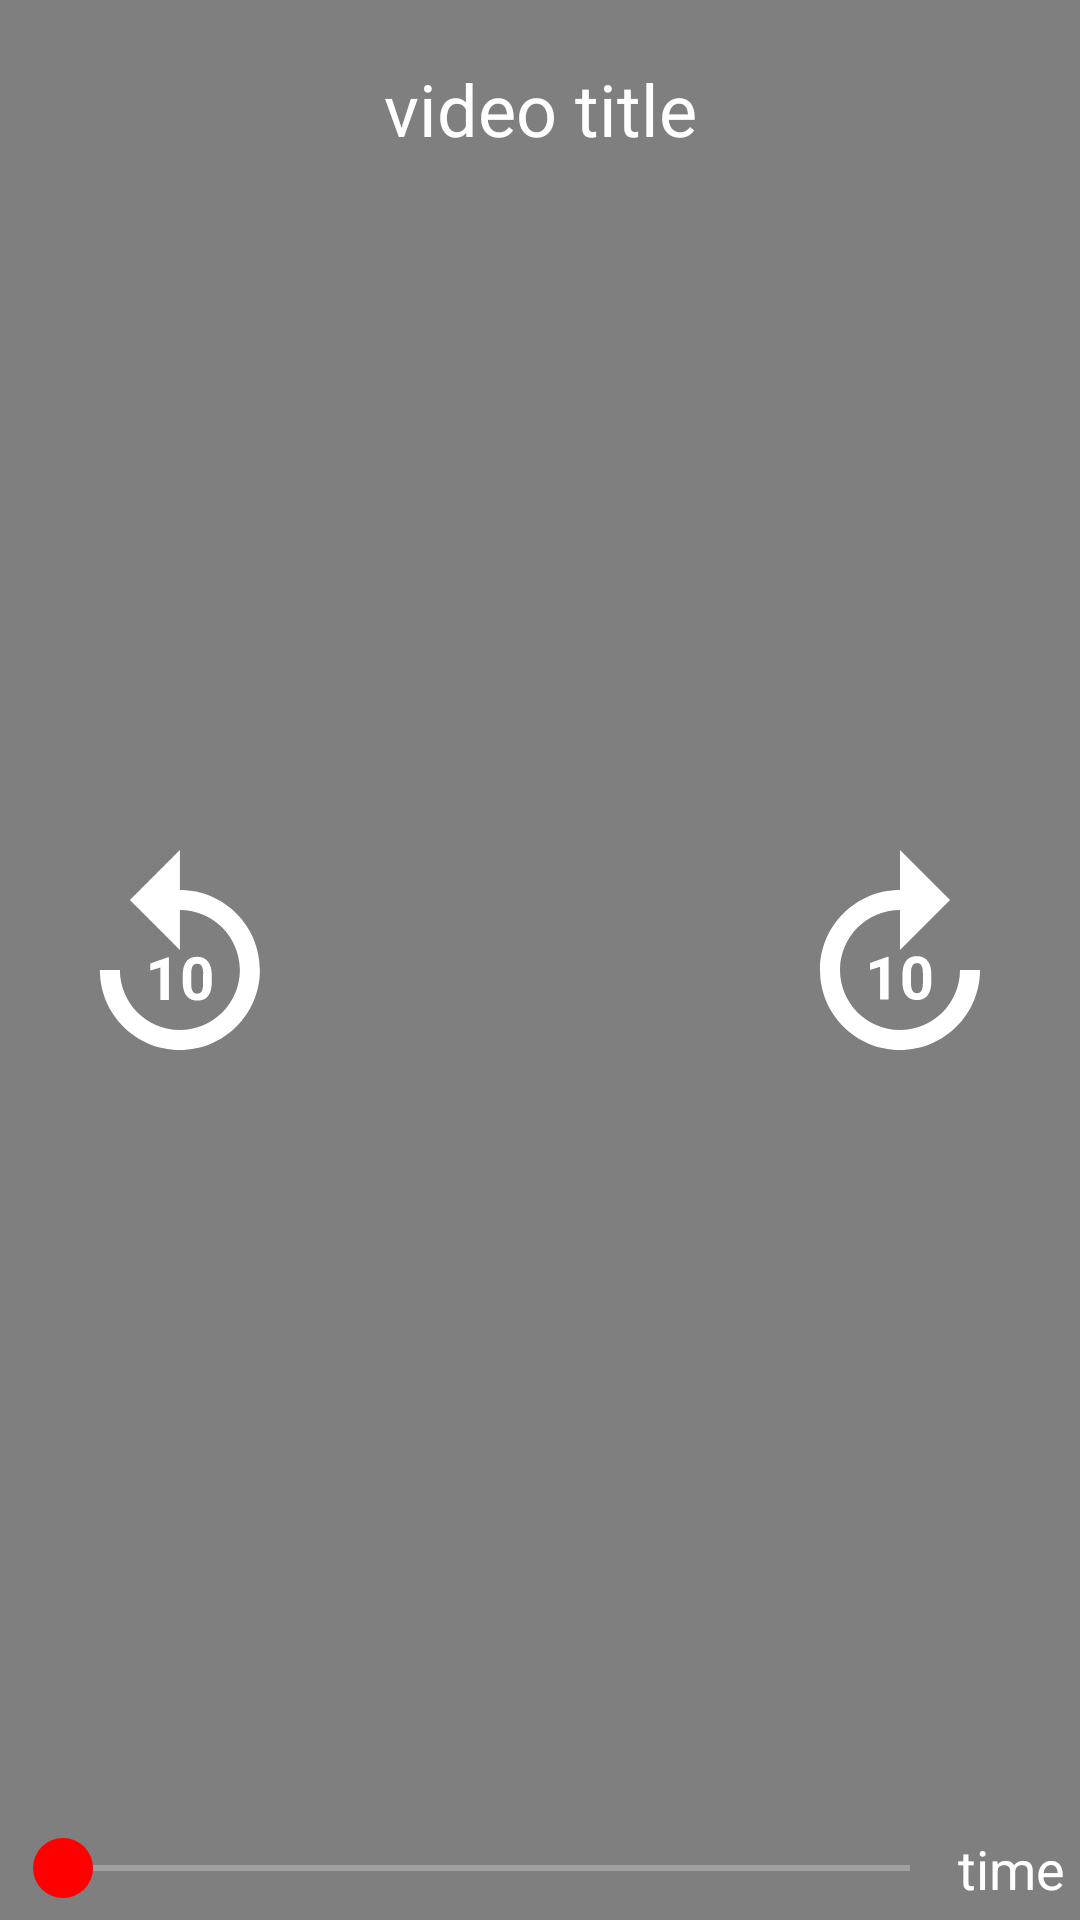

Screen size 1080×1920. Icon name, then its center in pixels as [x,y]:
backward: [180,950]
forward: [900,950]
